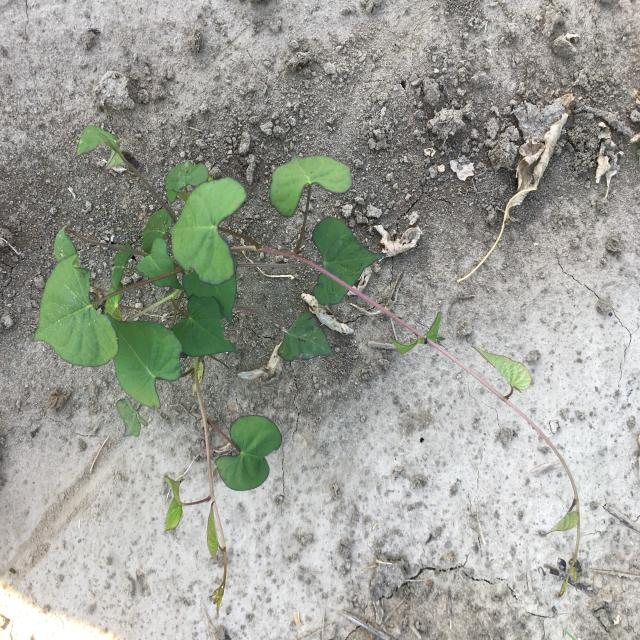MorningGlory: (33, 124, 580, 619)
